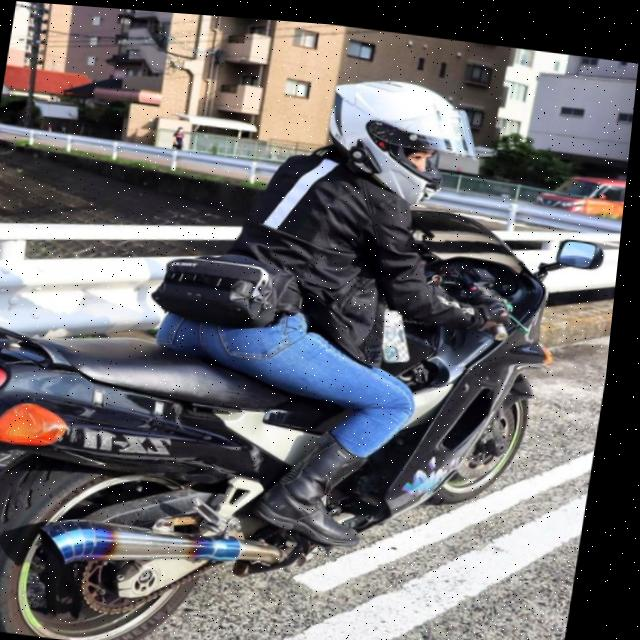helmet: (316, 62, 497, 208)
